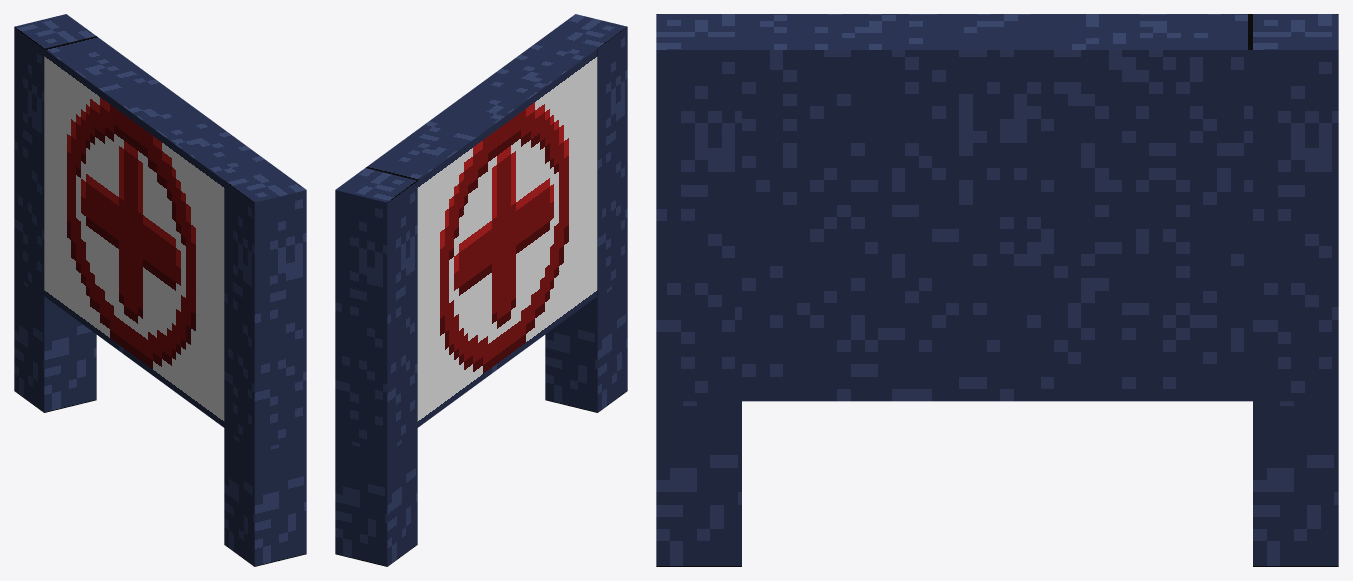
File: banner.FBX
3 views of the same model, side by side, from view 1: azimuth 30°, elevation 25°; view 2: azimuth 150°, elevation 25°; view 3: azimuth 270°, elevation 25° (orthographic). The views are drawn at different scales.
Visible parts, largest first — view 1: dome001; view 2: dome001; view 3: dome001.
Boxes of the visible parts, <box> form: dome001: <box>14,14,306,566</box>; dome001: <box>335,14,627,566</box>; dome001: <box>656,14,1338,566</box>.
Size of the model in its own units: 8.77 by 58.5 by 70.
